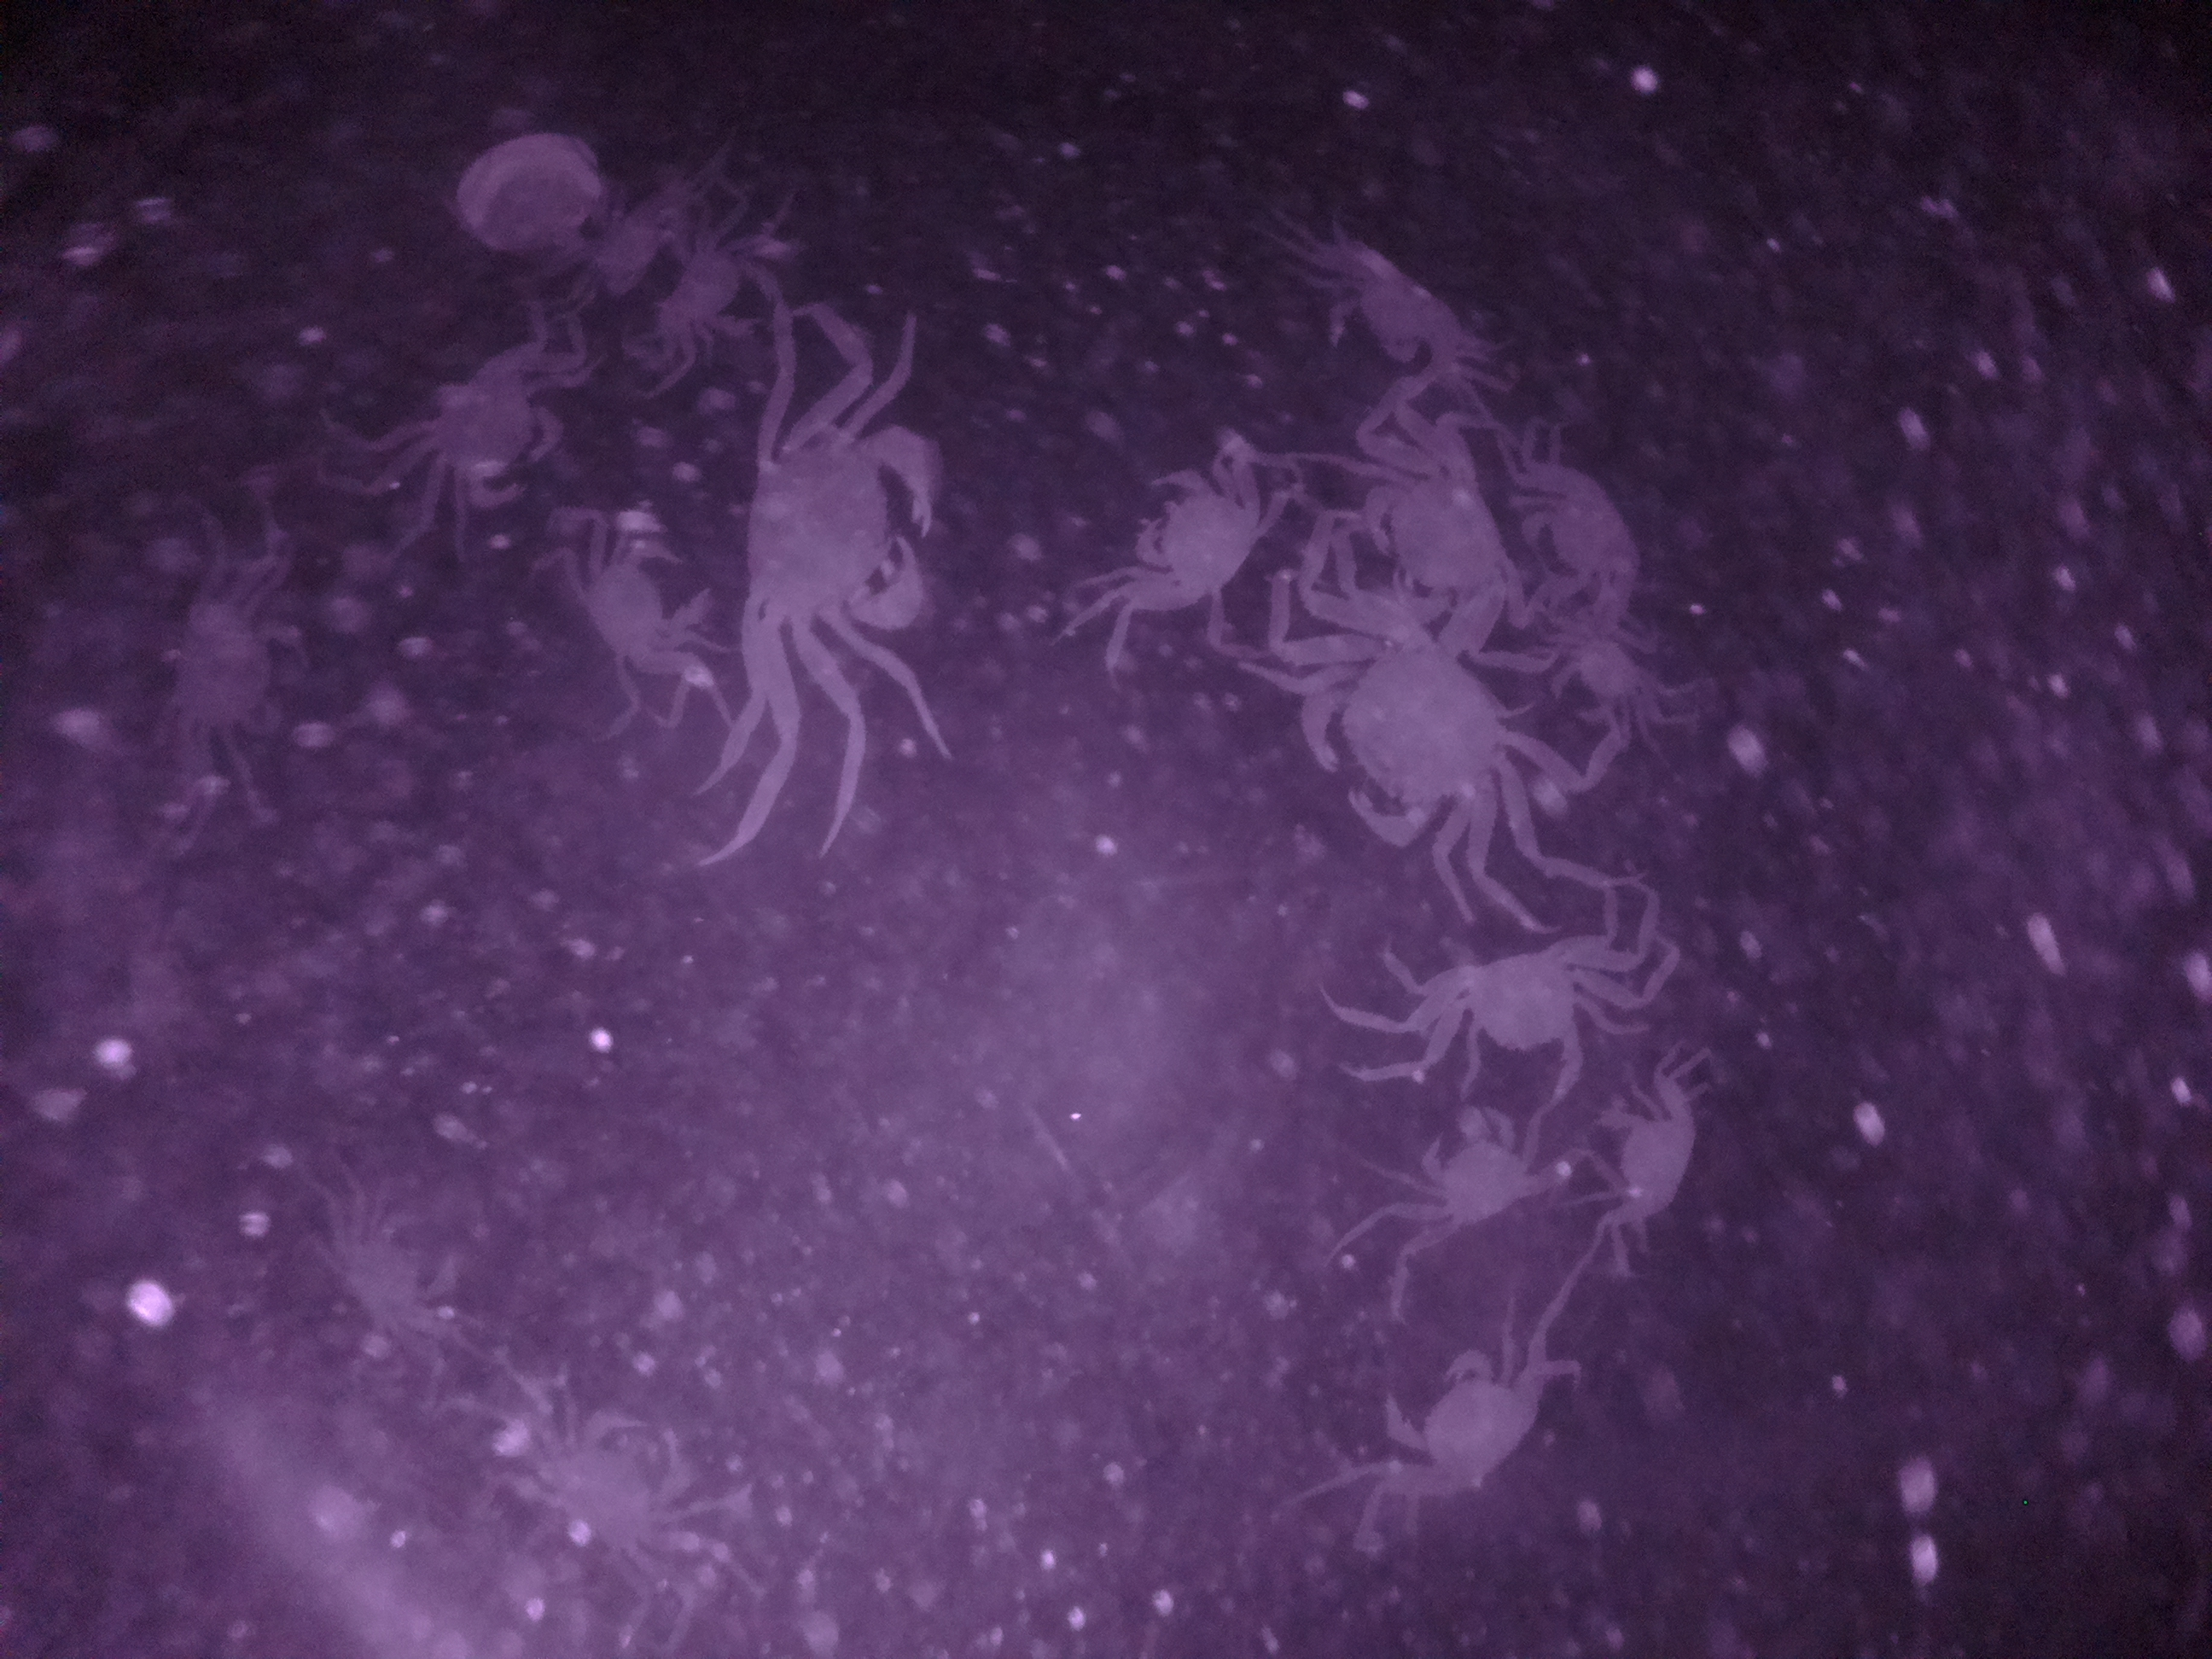Crab: (1280, 584, 1536, 864), (733, 366, 956, 674), (1561, 1086, 1759, 1265), (1362, 1333, 1548, 1511), (1428, 931, 1613, 1105), (557, 519, 728, 701), (1111, 446, 1282, 610), (1400, 1105, 1534, 1244)
